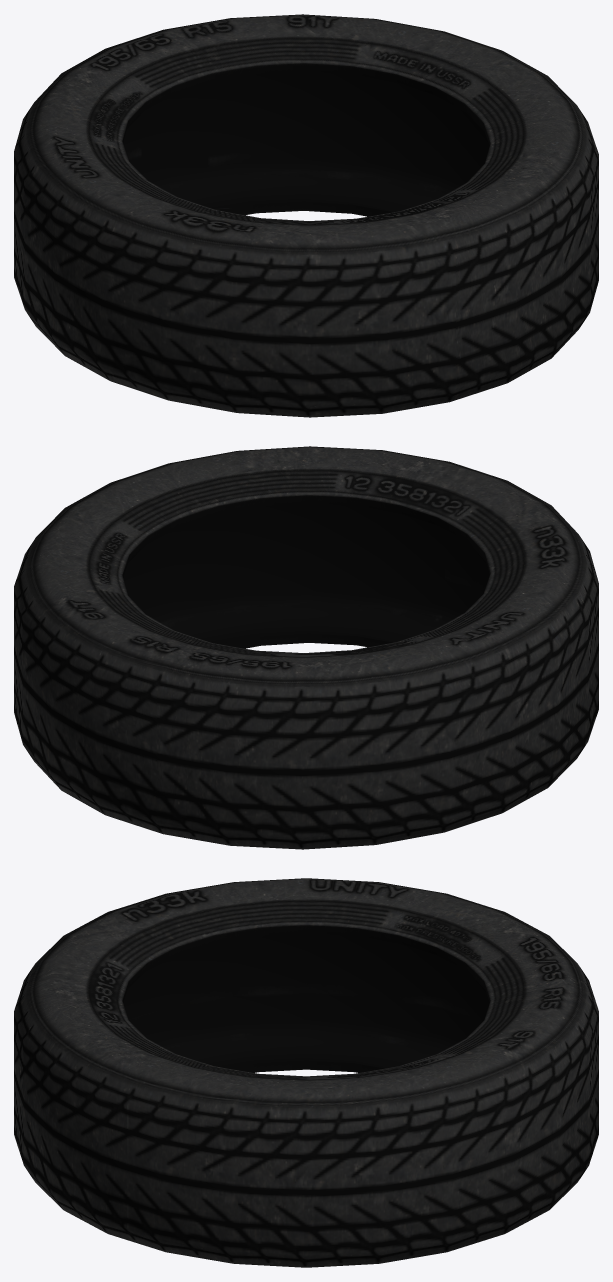
Rendered from Tire.glb.
3 views of the same model, one above another, from view 1: azimuth 30°, elevation 25°; view 2: azimuth 150°, elevation 25°; view 3: azimuth 270°, elevation 25° (orthographic). The views are drawn at different scales.
Parts seen in each view (by area): view 1: Cube; view 2: Cube; view 3: Cube.
Part boxes in pixels (x1,y1,x2,y2): Cube: [14, 14, 598, 417]; Cube: [14, 446, 598, 849]; Cube: [14, 878, 598, 1267].
Bounding box in the file's own units: 0.4185 × 0.1433 × 0.4306.
Materials: 1 (1 with a texture image).
